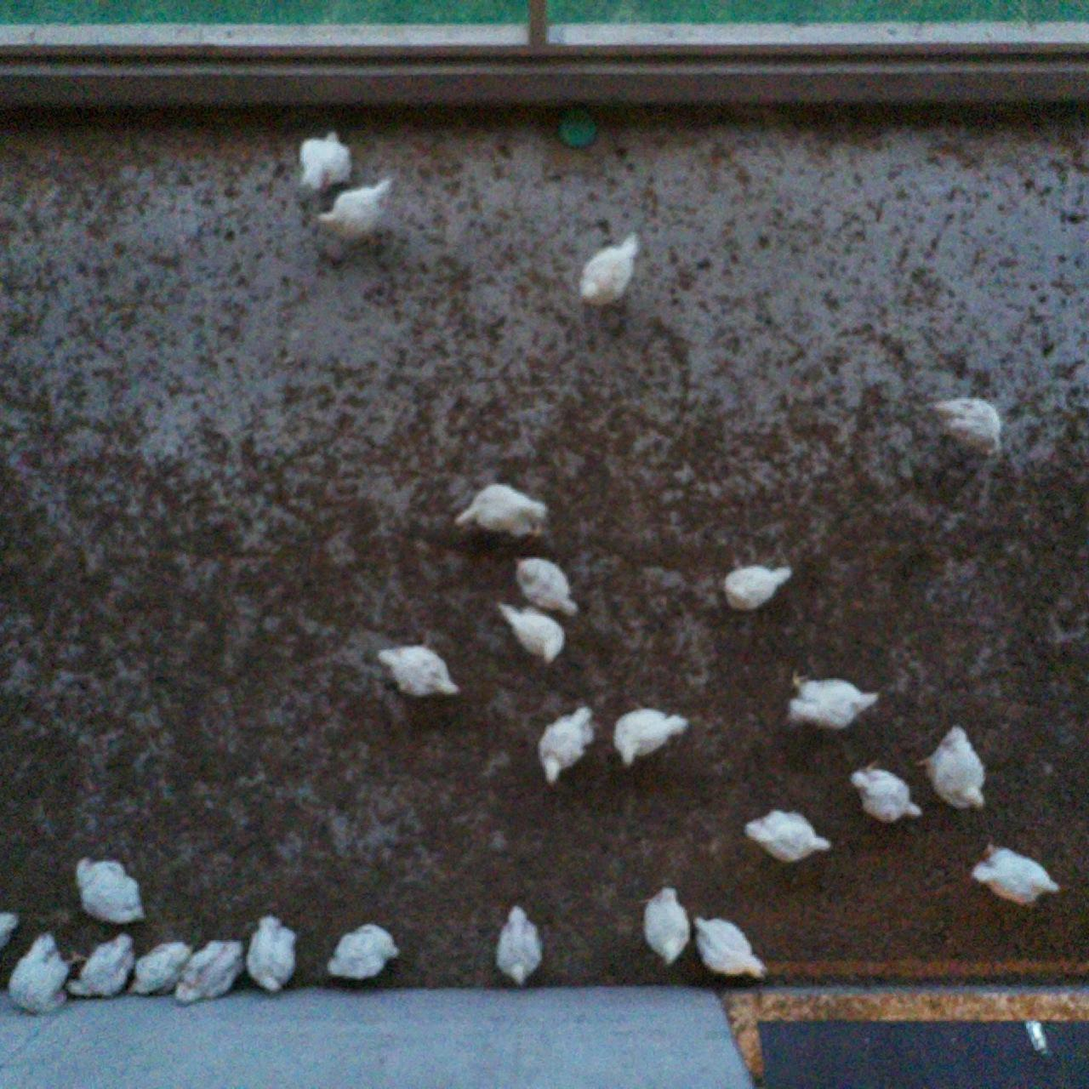chicken: (10, 928, 84, 1019), (972, 838, 1066, 908), (788, 667, 888, 732), (452, 480, 555, 543), (317, 174, 399, 251), (571, 230, 641, 314), (920, 724, 987, 811), (686, 912, 768, 982), (72, 850, 147, 925), (617, 698, 692, 773), (920, 393, 1006, 456), (173, 938, 245, 1009), (746, 809, 835, 866), (536, 702, 596, 786), (851, 757, 924, 826), (492, 594, 565, 662), (63, 932, 134, 1001), (328, 918, 401, 985), (634, 884, 691, 965), (249, 912, 299, 995), (496, 905, 546, 986), (379, 647, 456, 699), (515, 558, 581, 618), (722, 563, 799, 614), (131, 940, 198, 998), (296, 129, 355, 190), (0, 905, 15, 957)
